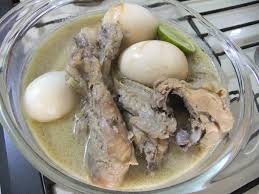Opor ayam: (23, 3, 230, 190)
